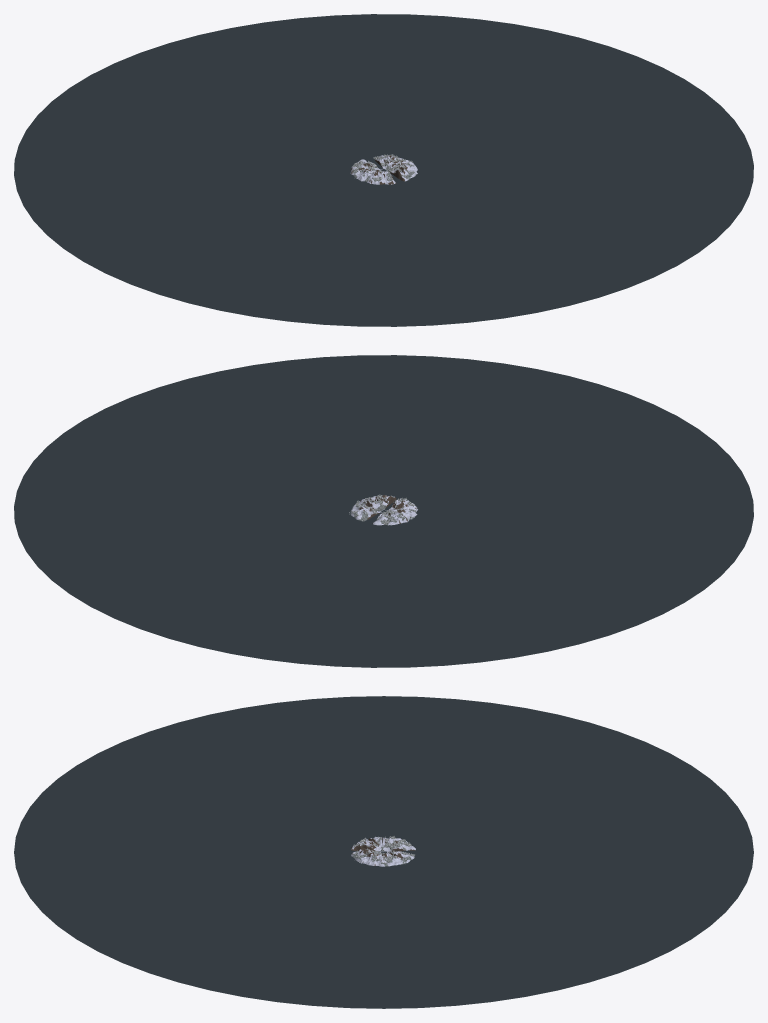
Rendered from backdrop_near_rect_coast_winter.glb.
3 renders of one model, top to bottom at view 1: azimuth 30°, elevation 25°; view 2: azimuth 150°, elevation 25°; view 3: azimuth 270°, elevation 25°, orthographic.
Parts seen in each view (by area): view 1: water_N, water_S, water_W, water_E; view 2: water_N, water_S, water_W, water_E; view 3: water_E, water_N, water_W, water_S.
Part boxes in pixels (x1,y1,x2,y2): water_N: (26, 14, 479, 170); water_S: (288, 170, 741, 326); water_W: (14, 130, 383, 321); water_E: (384, 19, 753, 210); water_N: (26, 511, 479, 667); water_S: (288, 355, 741, 511); water_W: (384, 471, 753, 662); water_E: (14, 360, 383, 551); water_E: (123, 852, 644, 1008); water_N: (384, 742, 753, 962); water_W: (123, 696, 644, 852); water_S: (14, 742, 383, 962).
Size of the model in its own units: 6000 by 169 by 6000.
Materials: 5 (3 with a texture image).
